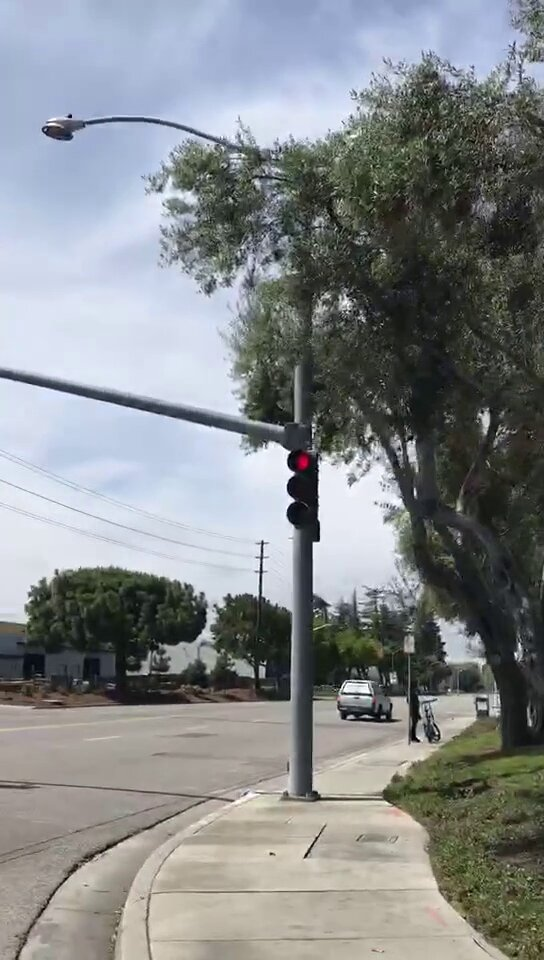red_light: (286, 449, 316, 526)
